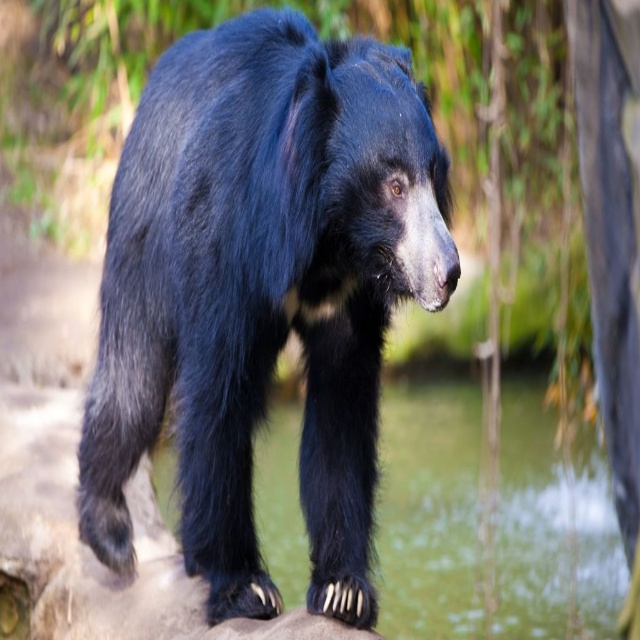Bear: (73, 4, 461, 630)
